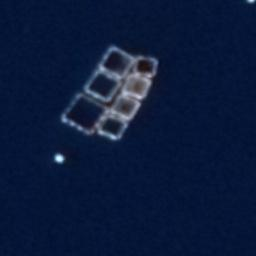square_solid: (56, 90, 111, 141), (83, 65, 126, 106), (97, 41, 138, 80), (96, 110, 132, 145), (131, 51, 161, 80)
